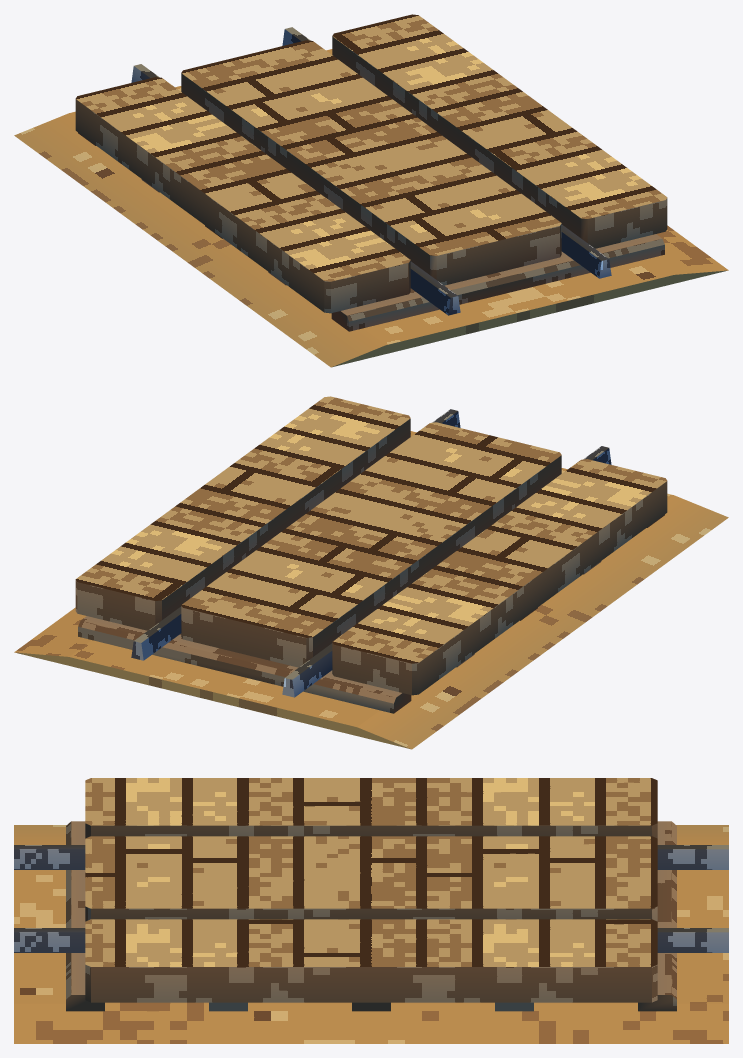
Rendered from wrail.track__crossing.glb.
3 renders of one model, top to bottom at view 1: azimuth 30°, elevation 25°; view 2: azimuth 150°, elevation 25°; view 3: azimuth 270°, elevation 25°, orthographic. The views are drawn at different scales.
Visible parts, largest first — view 1: kit_planks, kit_ballast, kit_ties, kit_rails; view 2: kit_planks, kit_ballast, kit_ties, kit_rails; view 3: kit_planks, kit_ballast, kit_rails, kit_ties.
Part boxes in pixels (box(x1,y1,x2,y2)): kit_planks: box(75, 14, 667, 313); kit_ballast: box(14, 49, 728, 367); kit_ties: box(78, 132, 664, 331); kit_rails: box(131, 27, 611, 315); kit_planks: box(75, 396, 667, 695); kit_ballast: box(14, 431, 728, 749); kit_ties: box(78, 514, 664, 713); kit_rails: box(131, 409, 611, 697); kit_planks: box(85, 778, 657, 1002); kit_ballast: box(14, 825, 728, 1043); kit_rails: box(14, 845, 728, 952); kit_ties: box(66, 821, 676, 1011).
Size of the model in its own units: 2.9 by 0.382 by 4.
4 materials, 4 textured.
